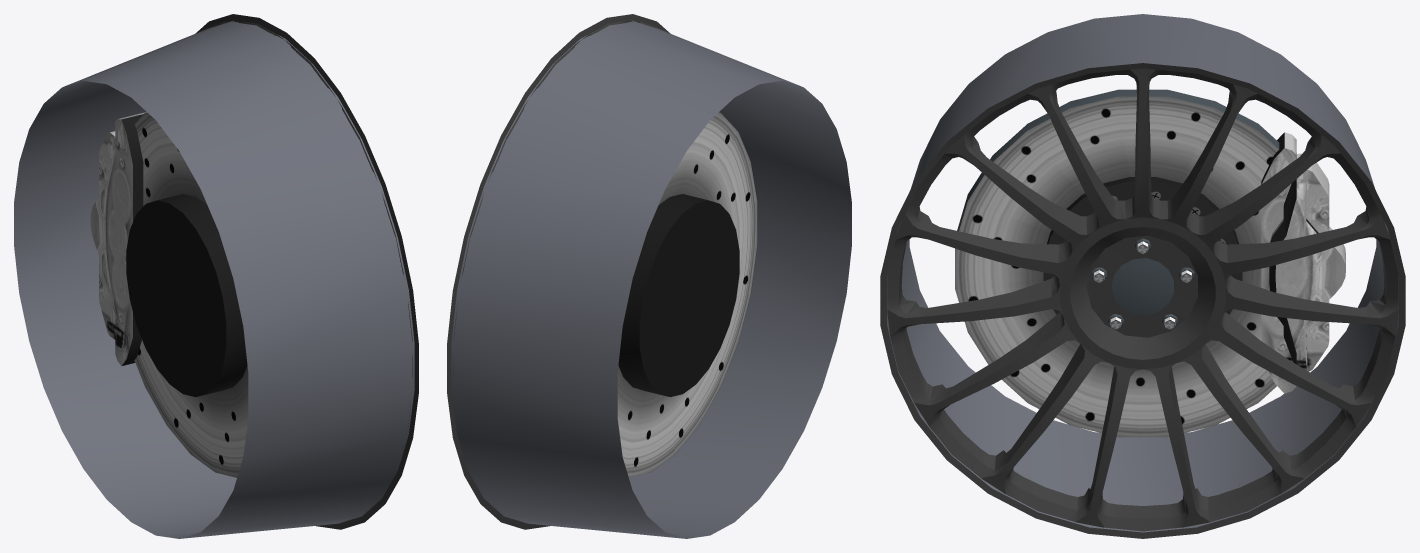
3 renders of one model, left to right at view 1: azimuth 30°, elevation 25°; view 2: azimuth 150°, elevation 25°; view 3: azimuth 270°, elevation 25°, orthographic.
Visible parts, largest first — view 1: 010, BrakeDisc, Caliper; view 2: 010, BrakeDisc; view 3: 010, BrakeDisc, Caliper.
Boxes of the visible parts, box(x1,y1,x2,y2) form: 010: box(14, 14, 418, 538); BrakeDisc: box(126, 112, 248, 477); Caliper: box(90, 112, 146, 366); 010: box(447, 14, 851, 538); BrakeDisc: box(617, 112, 757, 477); 010: box(880, 14, 1405, 538); BrakeDisc: box(955, 89, 1279, 437); Caliper: box(1261, 132, 1345, 393).
Bounding box in the file's own units: 0.1821 × 0.5343 × 0.5343.
